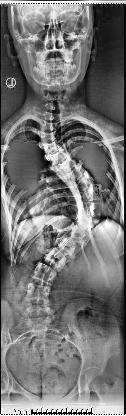Vertebrae: (58, 237, 84, 261), (32, 262, 58, 286), (62, 163, 88, 185), (50, 156, 76, 177), (72, 186, 102, 204), (70, 224, 94, 246), (27, 282, 53, 301), (45, 248, 67, 270), (45, 147, 69, 167), (75, 201, 105, 217), (70, 176, 94, 194), (76, 213, 100, 231), (41, 141, 61, 155), (41, 119, 59, 132), (44, 110, 62, 122), (40, 132, 58, 144)
